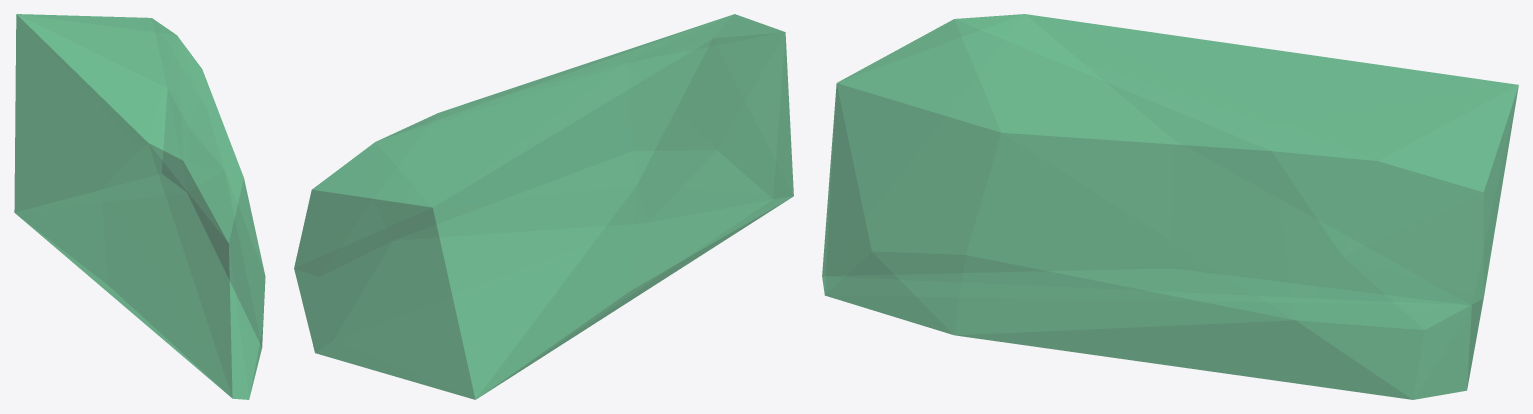
3 views of the same model, side by side, from view 1: azimuth 30°, elevation 25°; view 2: azimuth 150°, elevation 25°; view 3: azimuth 270°, elevation 25° (orthographic). The views are drawn at different scales.
Visible parts, largest first — view 1: Shape_IndexedFaceSet.092_Shape_IndexedFaceSet.133; view 2: Shape_IndexedFaceSet.092_Shape_IndexedFaceSet.133; view 3: Shape_IndexedFaceSet.092_Shape_IndexedFaceSet.133.
Part boxes in pixels (x1,y1,x2,y2): Shape_IndexedFaceSet.092_Shape_IndexedFaceSet.133: (14,14,265,399); Shape_IndexedFaceSet.092_Shape_IndexedFaceSet.133: (294,14,793,399); Shape_IndexedFaceSet.092_Shape_IndexedFaceSet.133: (822,14,1518,399).
Size of the model in its own units: 0.1916 by 0.1916 by 0.4539.
